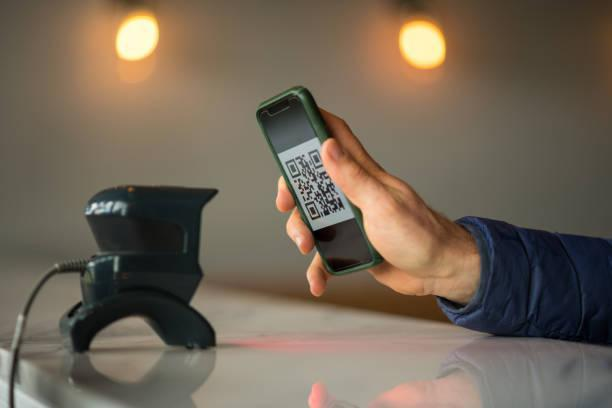Finder pattern: (304, 198, 322, 223), (306, 147, 325, 170), (284, 156, 301, 181)
